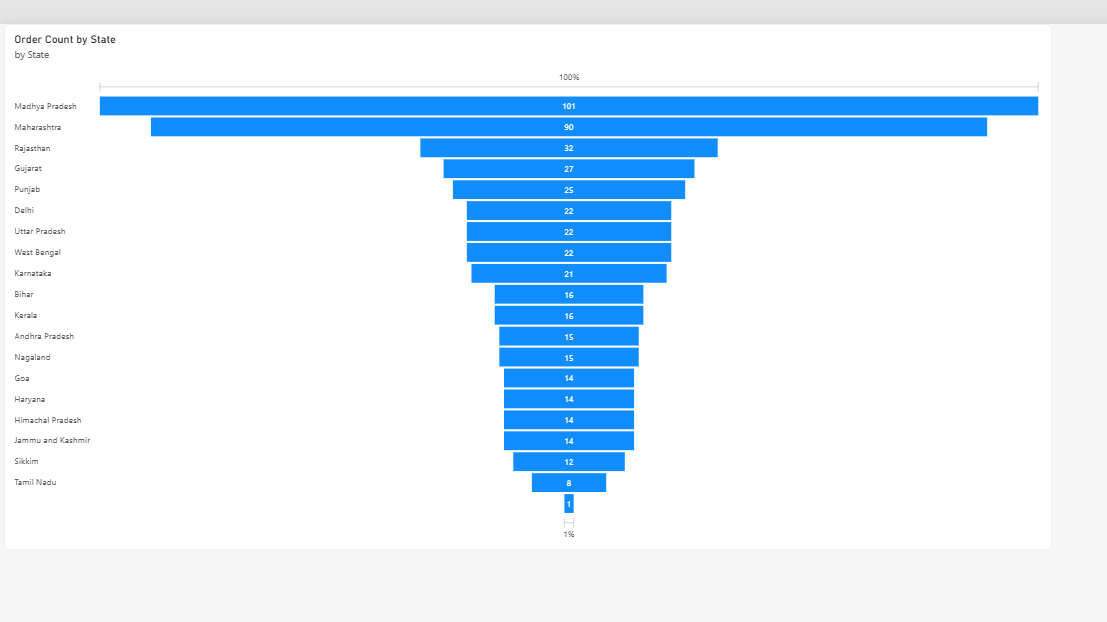

The page's visual inventory and layout, read from the dashboard file:
{"tool":"powerbi","page":{"name":"Funnel chart","canvas":[1920,1080],"ordinal":6},"visuals":[{"type":"funnel","fields":{"Category":["List of Orders.State"],"Y":["List of Orders.Order Count by State"]},"box":[10.3,0,1724.9,866.6],"z":0}]}

Visuals, with their boxes in screenshot pixels (x1, y1, x2, y2), scaled from the page's 1920x1080 canvas onto the 1107x622 screenshot:
funnel - List of Orders.State x List of Orders.Order Count by State: detection(6, 0, 1000, 499)
